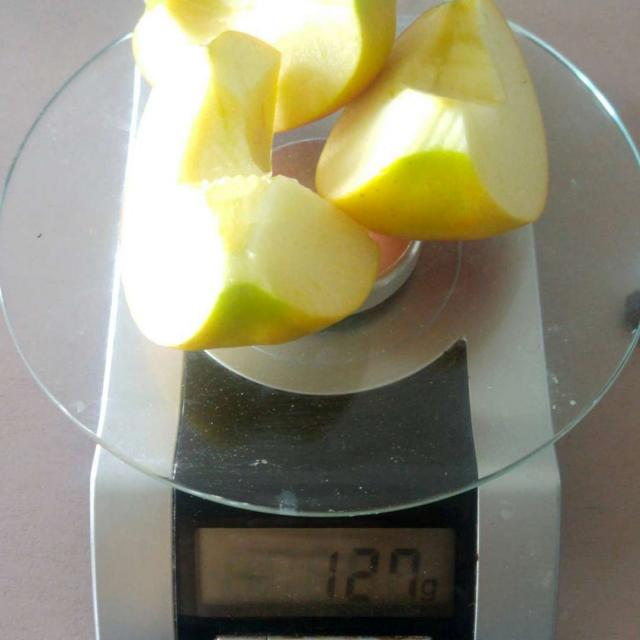apple: (143, 11, 537, 350)
